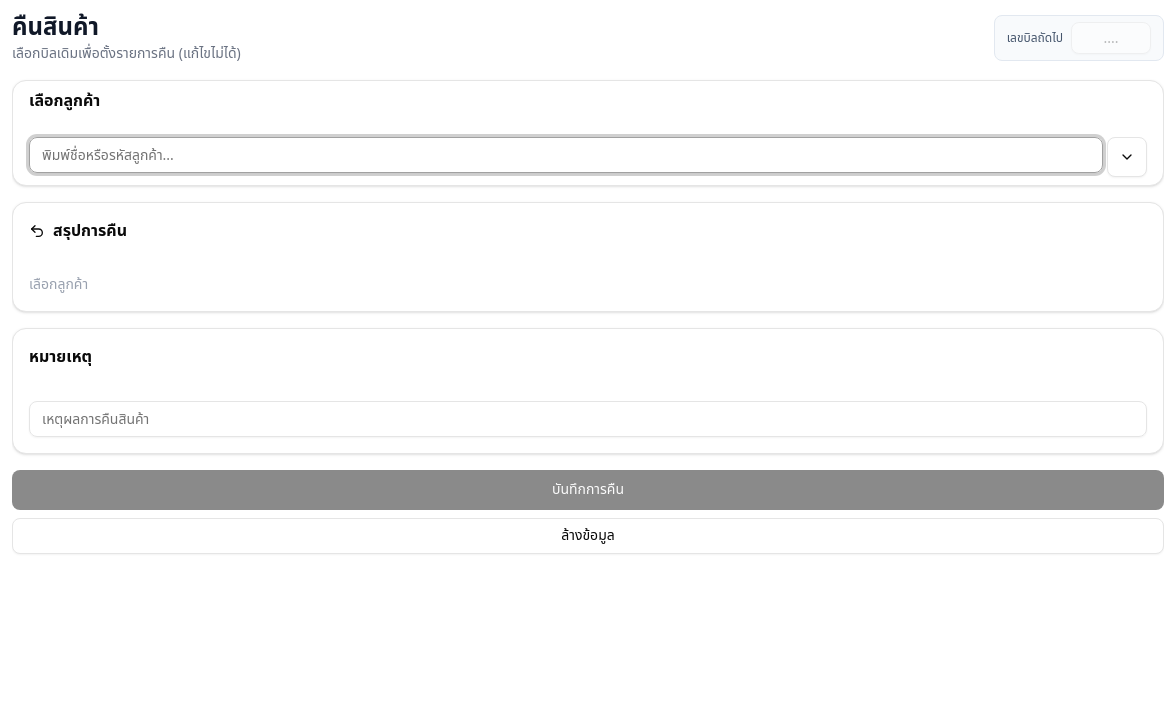
Test: returns page › supports sale-style keyboard navigation for customer selection
This screenshot has width=1176, height=709.
Click the button named "เปิดรายชื่อลูกค้า (เรียง ก-ฮ)" at (1127, 157), box [1107,137,1147,177]
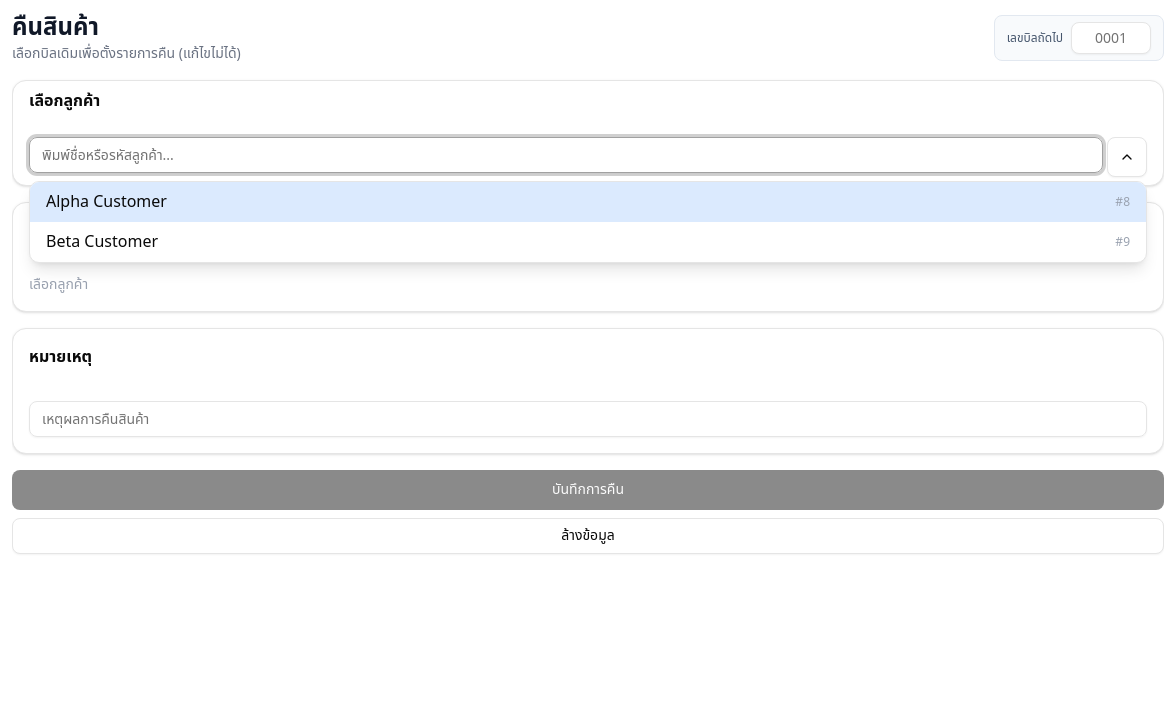
Now the button "Alpha Customer #8" is shown, box [30,182,1146,222]
Now the button "Beta Customer #9" is shown, box [30,222,1146,262]
Press ArrowDown in the field with placeholder "พิมพ์ชื่อหรือรหัสลูกค้า...", box [29,137,1103,173]
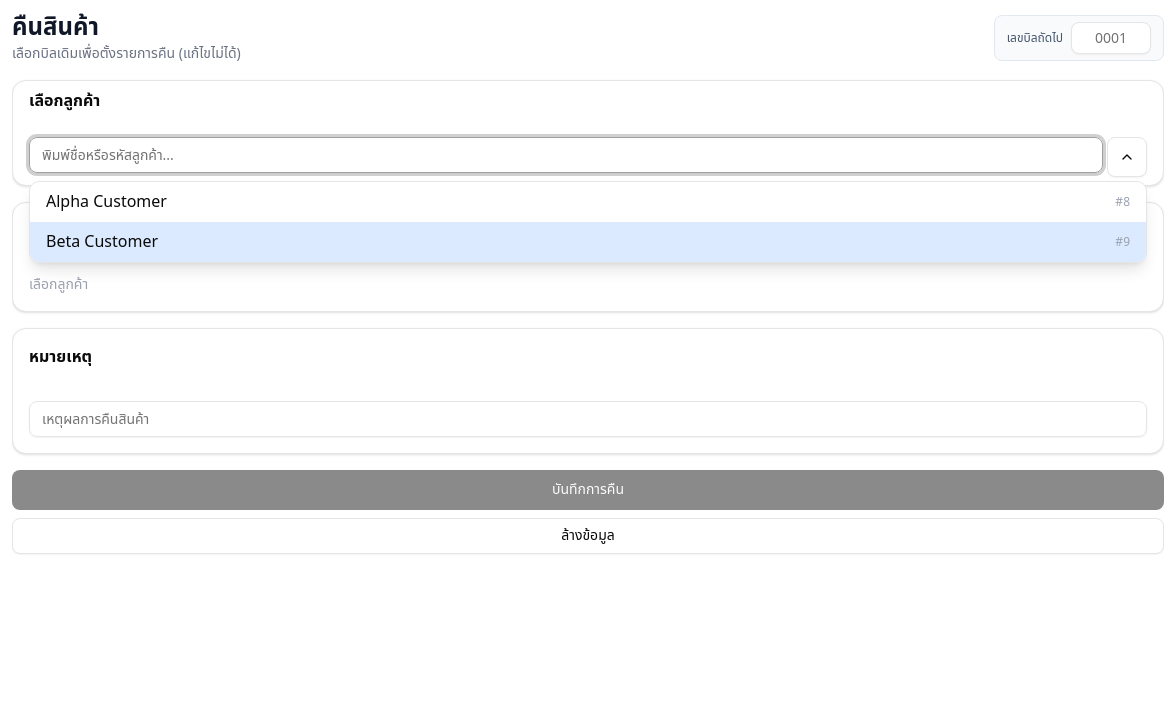
Press Enter in the field with placeholder "พิมพ์ชื่อหรือรหัสลูกค้า...", box [29,137,1103,173]
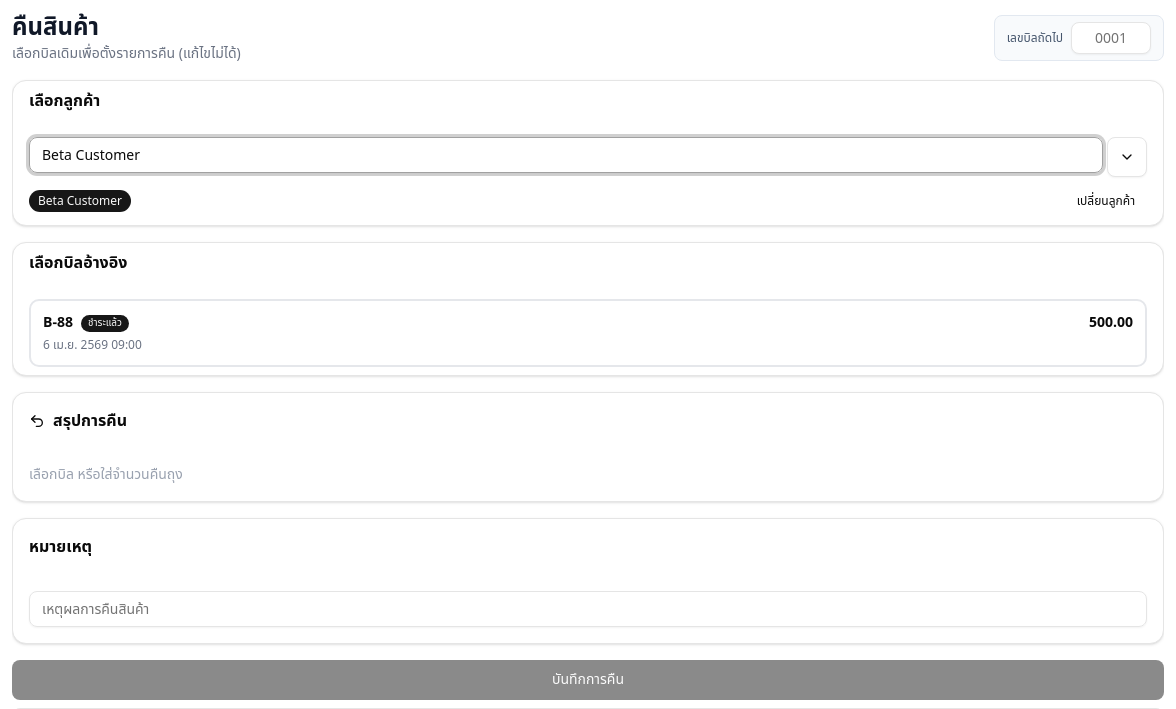
Now the text "Beta Customer" is shown, box [29,190,131,212]
Now the text "B-88" is shown, box [43,313,73,333]
